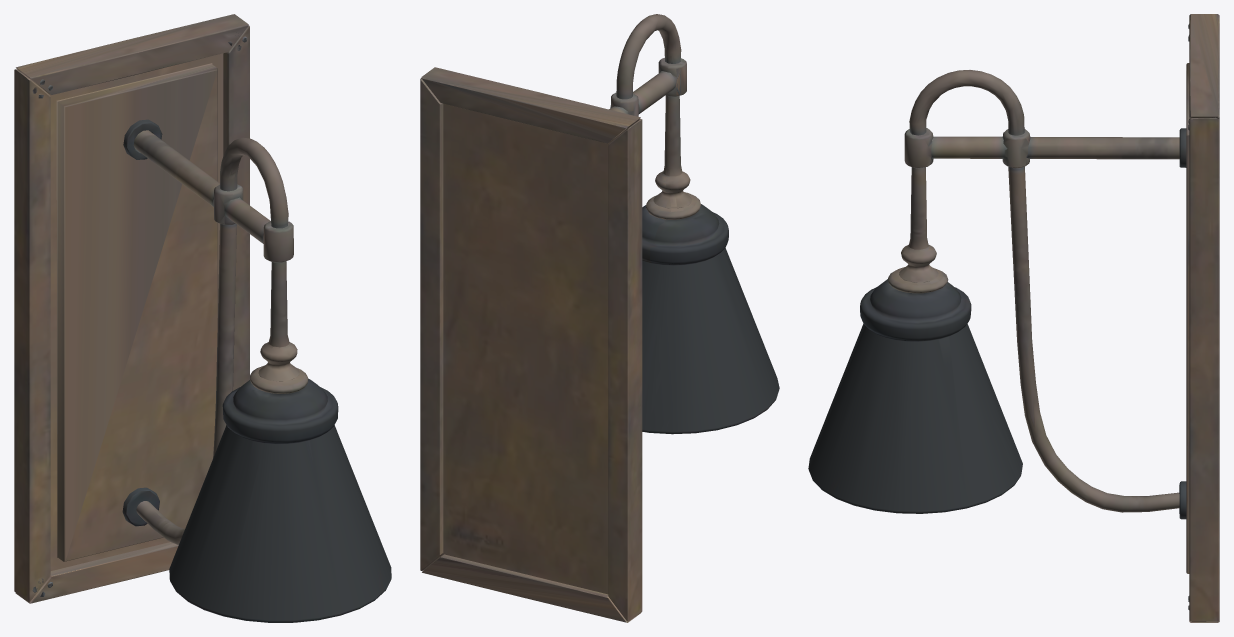
The model's file is industrial-wall-sconce.glb.
The picture shows the model from 3 angles, left to right: view 1: azimuth 30°, elevation 25°; view 2: azimuth 150°, elevation 25°; view 3: azimuth 270°, elevation 25°; orthographic projection. The views are drawn at different scales.
Visible parts, largest first — view 1: industrial_wall_sconce; view 2: industrial_wall_sconce; view 3: industrial_wall_sconce.
Boxes of the visible parts, x1,y1,x2,y2 form: industrial_wall_sconce: [14, 14, 391, 622]; industrial_wall_sconce: [420, 14, 779, 622]; industrial_wall_sconce: [808, 14, 1219, 622].
Size of the model in its own units: 0.1503 by 0.3418 by 0.2516.
2 materials, 2 textured.
